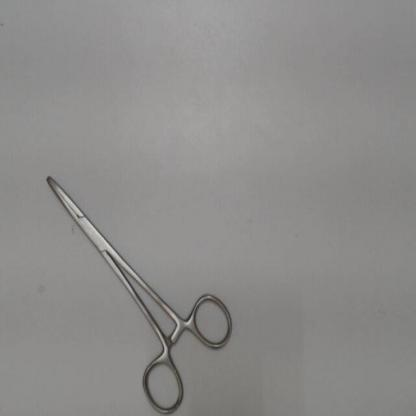Mayo Needle Holder: (39, 164, 239, 415)
